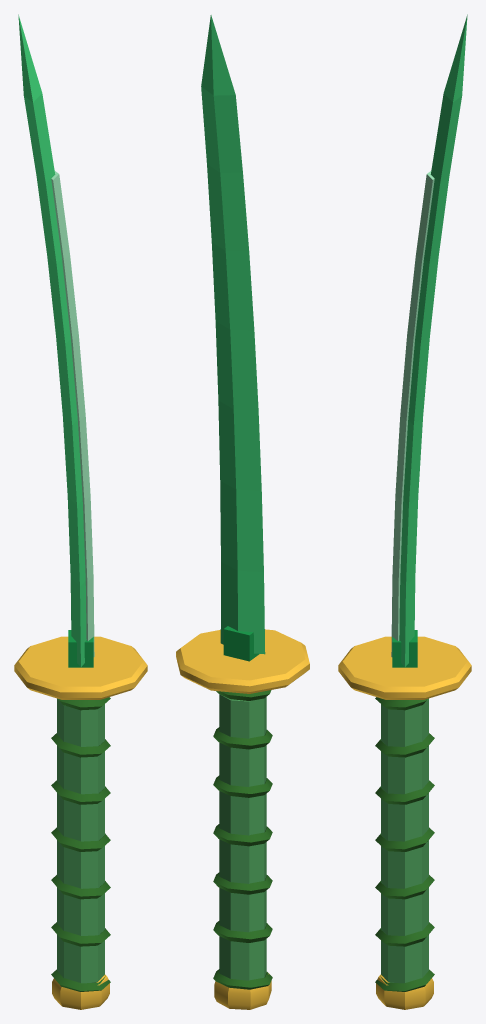
Rendered from EmeraldKatana.fbx.
The picture shows the model from 3 angles, left to right: view 1: azimuth 90°, elevation 25°; view 2: azimuth 150°, elevation 25°; view 3: azimuth 270°, elevation 25°; orthographic projection. The views are drawn at different scales.
Parts seen in each view (by area): view 1: EmeraldKatana; view 2: EmeraldKatana; view 3: EmeraldKatana.
Boxes of the visible parts, x1,y1,x2,y2 form: EmeraldKatana: (14,14,147,1009); EmeraldKatana: (176,15,309,1009); EmeraldKatana: (338,14,471,1009).
Bounding box in the file's own units: 0.6087 × 5.22 × 0.64.
1 material, 1 textured.
